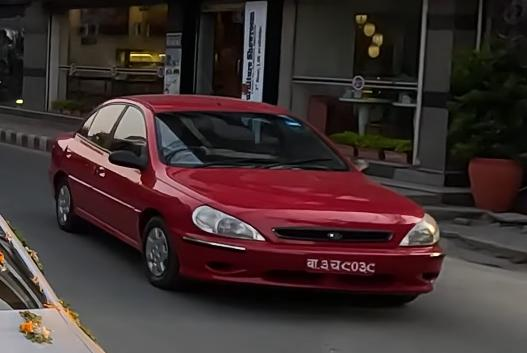car: (47, 70, 444, 310)
